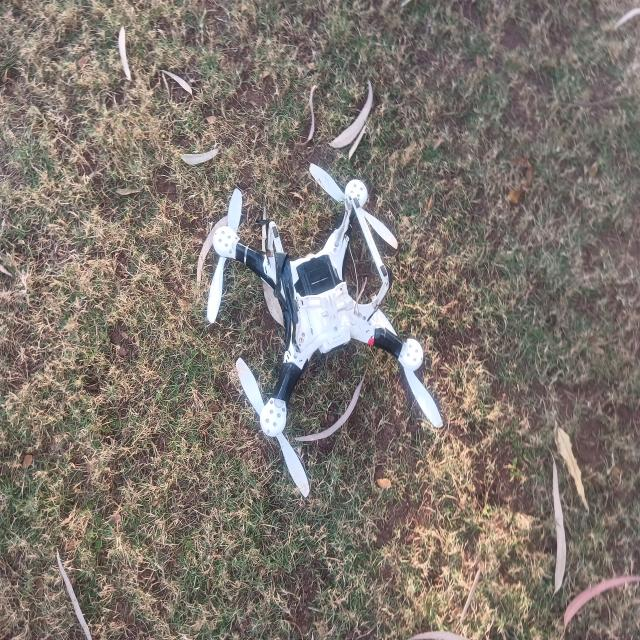drone: (184, 176, 485, 504)
